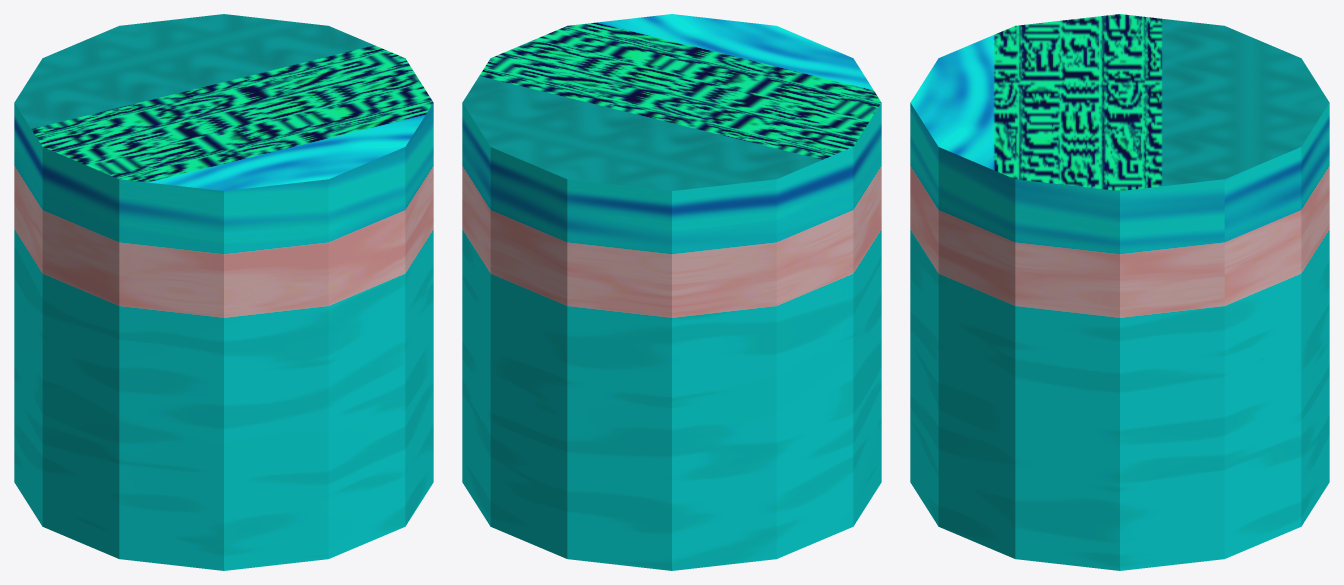
Rendered from SM_Tree_01.fbx.
3 renders of one model, left to right at view 1: azimuth 30°, elevation 25°; view 2: azimuth 150°, elevation 25°; view 3: azimuth 270°, elevation 25°, orthographic.
Visible parts, largest first — view 1: SM_Tree_01; view 2: SM_Tree_01; view 3: SM_Tree_01.
Boxes of the visible parts, bbox=[...] form: SM_Tree_01: bbox=[14, 14, 433, 570]; SM_Tree_01: bbox=[462, 14, 881, 570]; SM_Tree_01: bbox=[910, 14, 1329, 570].
Size of the model in its own units: 6.98 by 6.98 by 6.98.
Materials: 1 (1 with a texture image).
